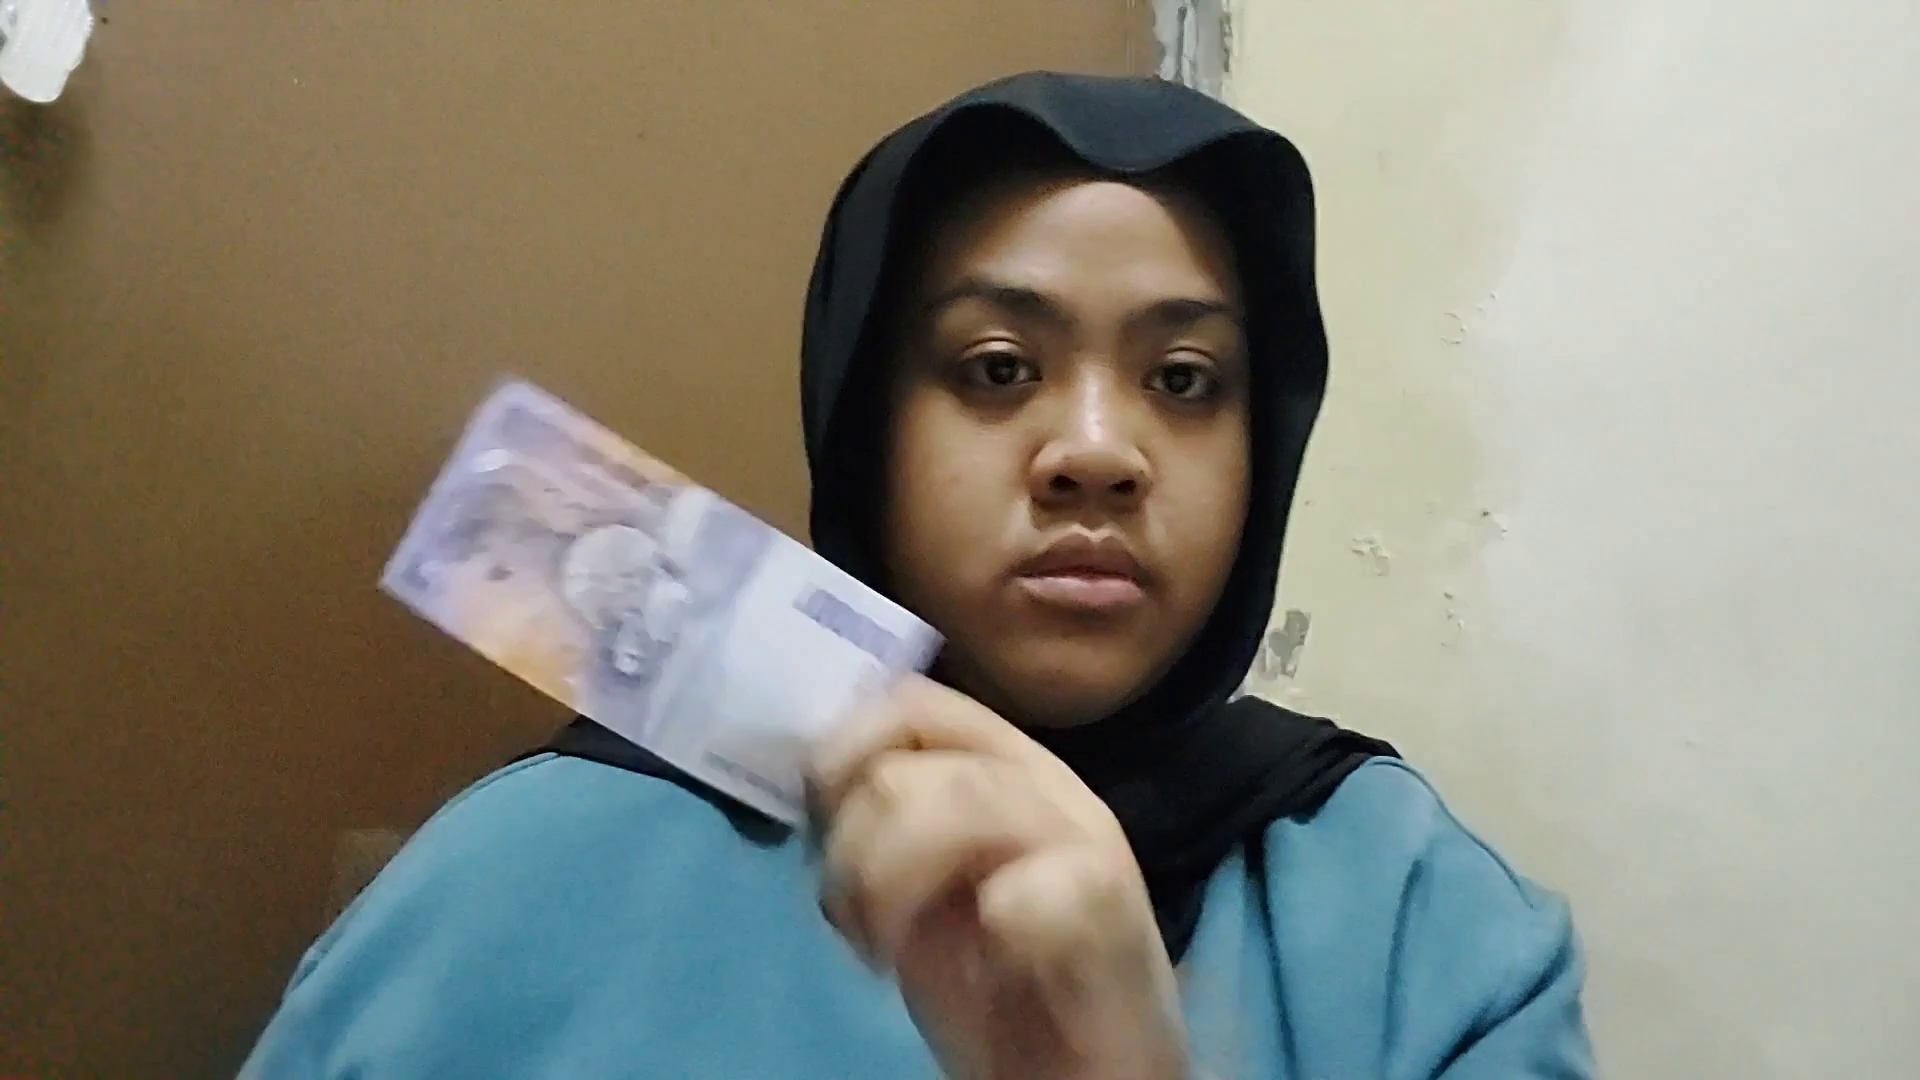10k: (500, 363, 1023, 628)
